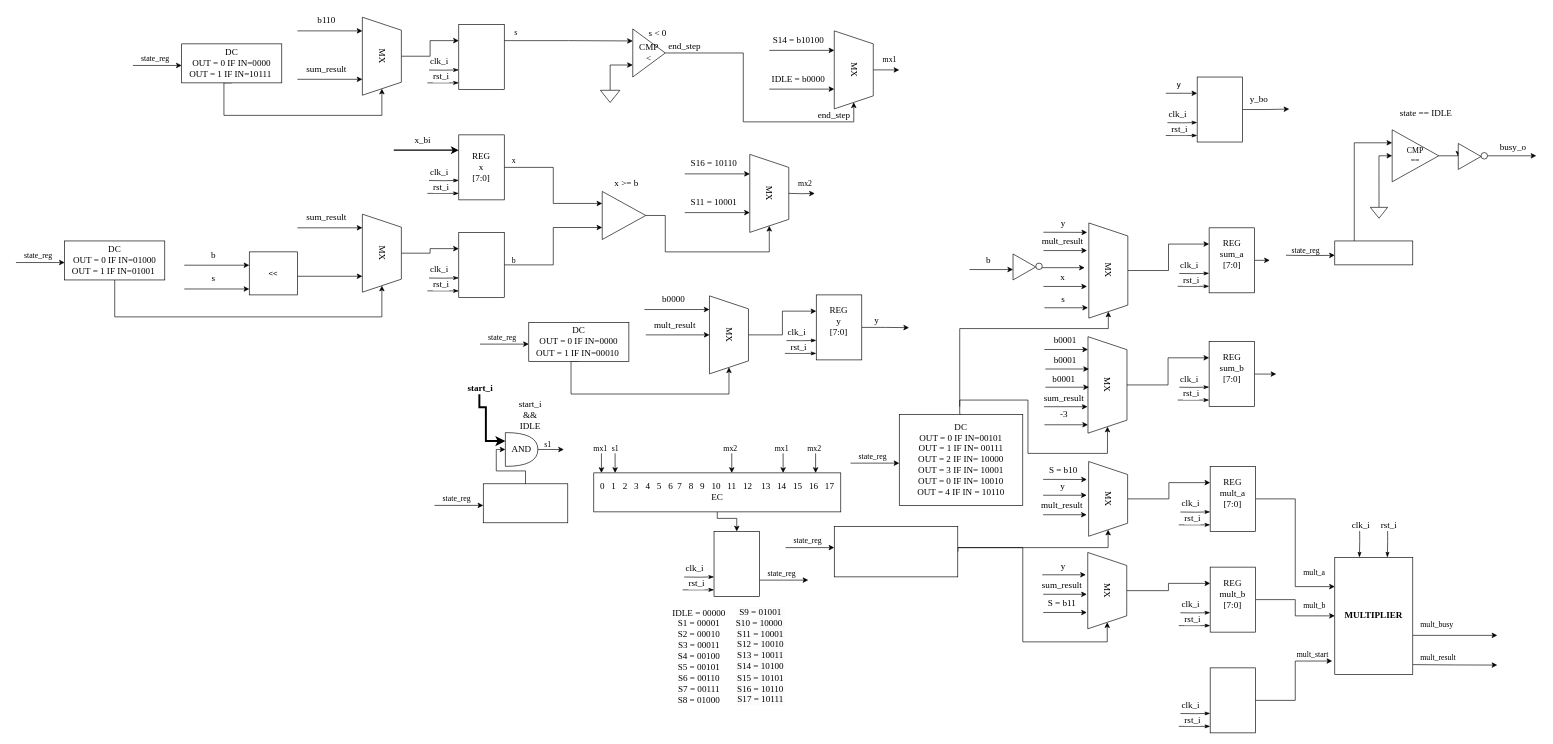
Image size: 1553x744. Some labels were removed from this diagram. Each missing label, with the centre of its shape:
CMP >=: the point at 624,215
DС OUT = 0 IF IN=00: the point at 1373,252
DС OUT = 0 IF IN=00001 OUT = 1 IF IN= 00100 OUT = 2 IF IN= 00101: the point at 896,551
DС OUT = 1 IF IN=0000: the point at 525,503
REG b [7:0]: the point at 481,264
REG mult_start: the point at 1233,700
REG s [7:0]: the point at 481,56
REG state [4:0]: the point at 736,563
REG y_bo [4:0]: the point at 1220,109
